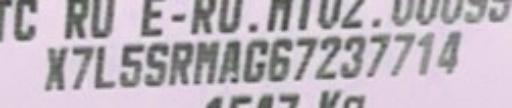letter: (387, 30, 419, 76), (41, 44, 71, 93), (436, 28, 466, 76), (165, 38, 195, 85), (192, 38, 222, 83), (241, 38, 271, 83), (265, 36, 295, 80), (338, 34, 368, 76), (289, 36, 317, 80), (216, 38, 242, 83), (143, 40, 169, 85), (118, 42, 144, 87), (67, 44, 93, 89), (412, 30, 438, 74), (94, 44, 118, 91), (365, 34, 393, 74), (316, 36, 342, 78)
